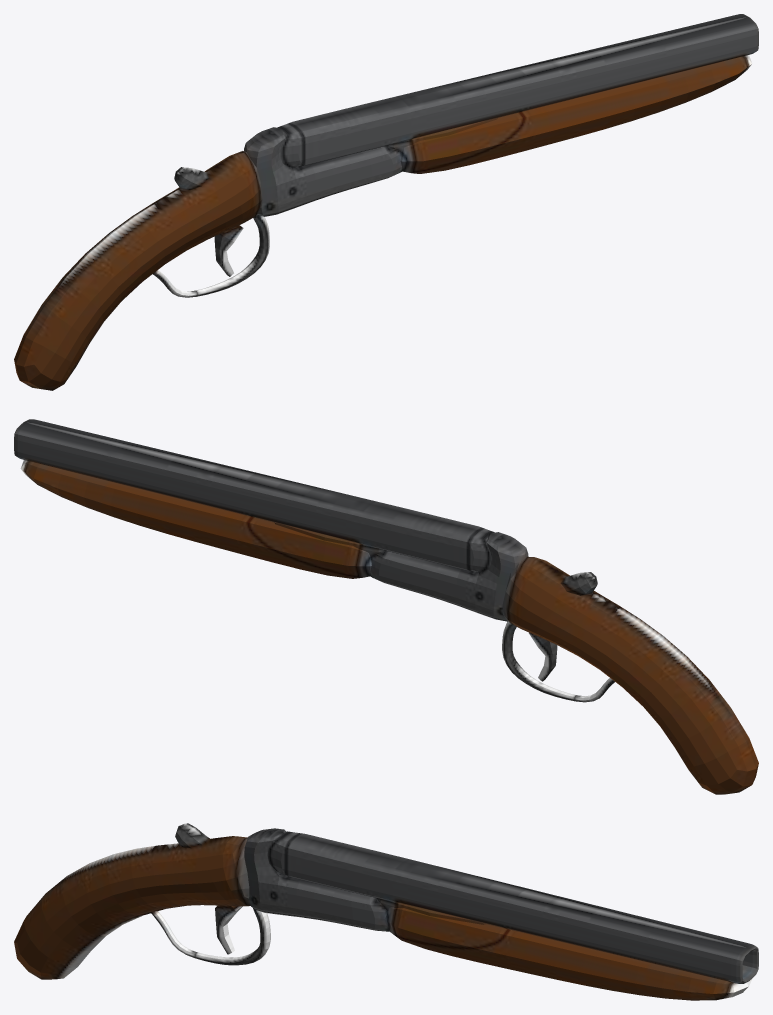
Rendered from Escopeta.fbx.
3 views of the same model, one above another, from view 1: azimuth 30°, elevation 25°; view 2: azimuth 150°, elevation 25°; view 3: azimuth 330°, elevation 25° (orthographic).
Visible parts, largest first — view 1: Cube.006; view 2: Cube.006; view 3: Cube.006.
Boxes of the visible parts, x1,y1,x2,y2 form: Cube.006: [14, 14, 758, 390]; Cube.006: [14, 419, 758, 794]; Cube.006: [14, 823, 758, 1000].
Bounding box in the file's own units: 766 × 203 × 53.97.
